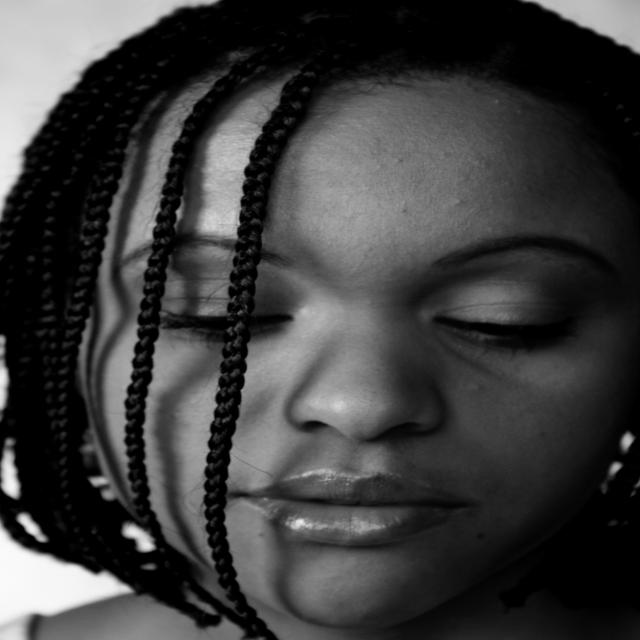no-glass: (104, 292, 620, 352)
